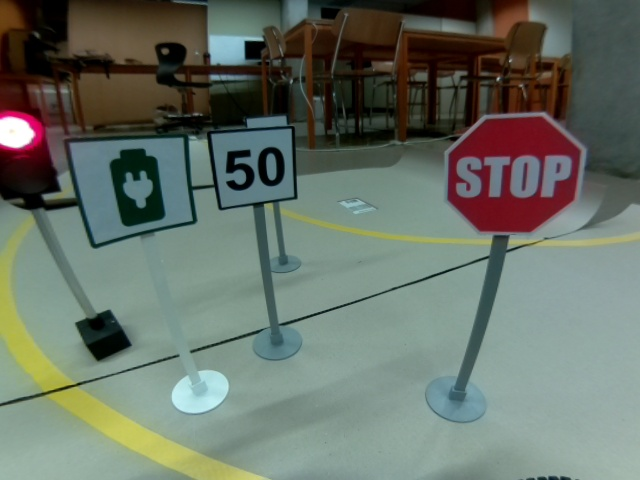battery: (62, 133, 199, 249)
speed50: (205, 125, 300, 211)
stop: (443, 110, 587, 236)
trafficLightRed: (1, 107, 62, 202)
